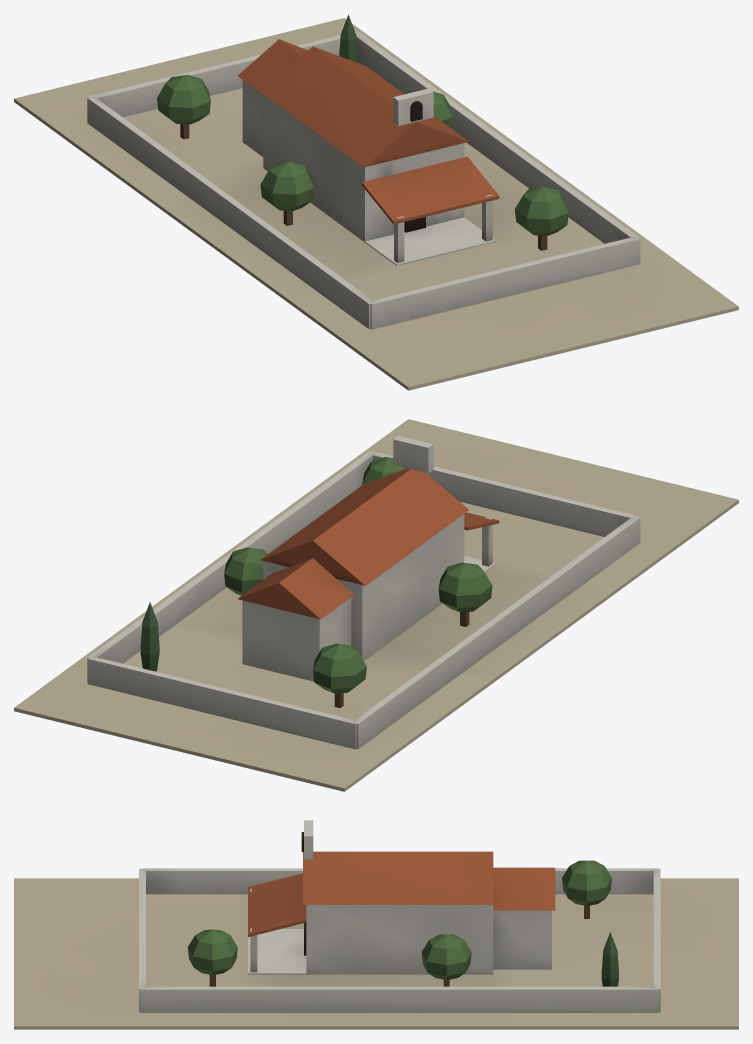
The model's file is sao-roque-ermida.glb.
3 views of the same model, one above another, from view 1: azimuth 30°, elevation 25°; view 2: azimuth 150°, elevation 25°; view 3: azimuth 270°, elevation 25° (orthographic). The views are drawn at different scales.
Visible parts, largest first — view 1: p0_ground, p1_nave, p2_front; view 2: p0_ground, p1_nave, p2_front; view 3: p0_ground, p1_nave, p2_front.
Part boxes in pixels (<box>): p0_ground: <box>14,18,738,390</box>; p1_nave: <box>87,31,640,329</box>; p2_front: <box>157,14,568,250</box>; p0_ground: <box>14,419,738,791</box>; p1_nave: <box>87,451,640,749</box>; p2_front: <box>140,435,492,708</box>; p0_ground: <box>14,878,738,1029</box>; p1_nave: <box>139,851,660,1012</box>; p2_front: <box>187,820,618,986</box>.
Size of the model in its own units: 30 by 12 by 62.
